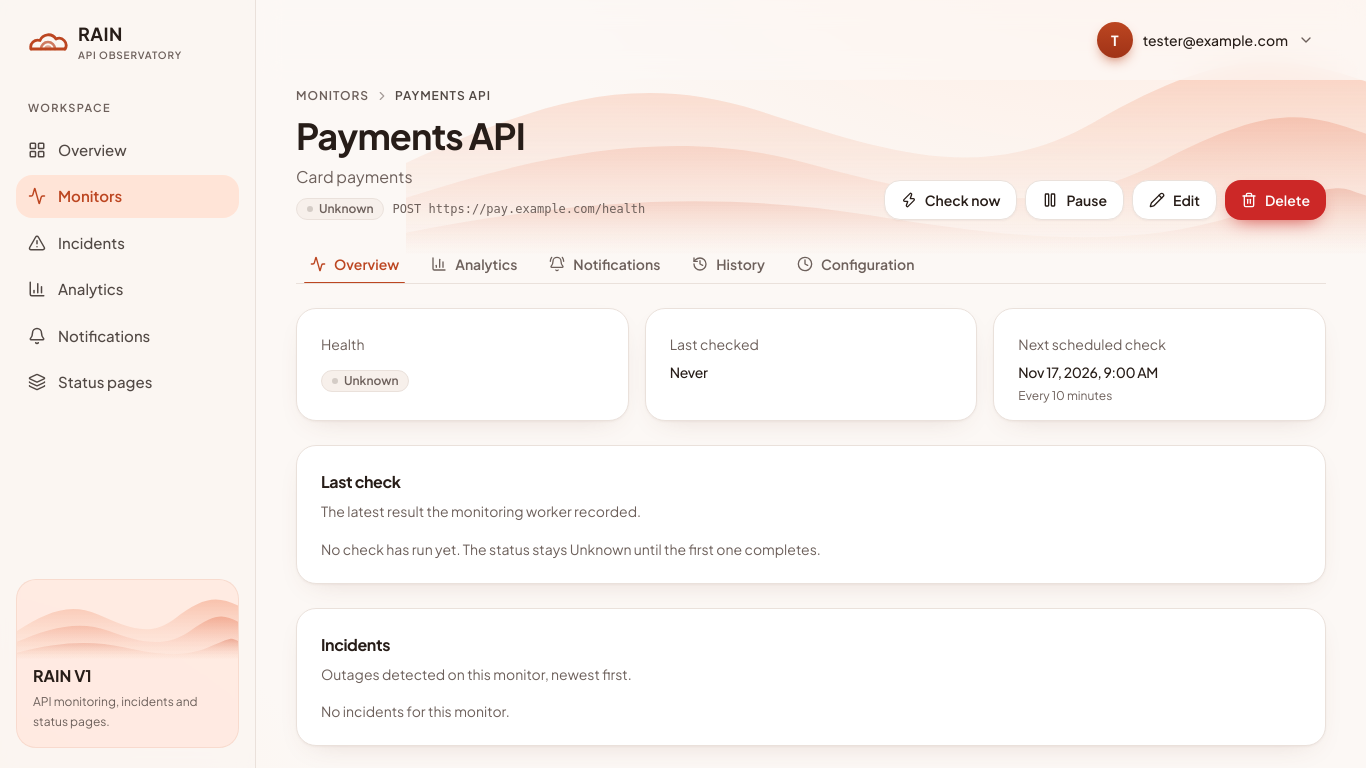
Scenario: monitor details › shows configuration and header names but no credential values or invented history
Expected: the heading "Payments API" is shown, [296,113,525,158]
Expected: the text "Card payments" is shown, [296,166,413,187]
Click the tab "Configuration" at x=856, y=264, box [783,244,928,284]
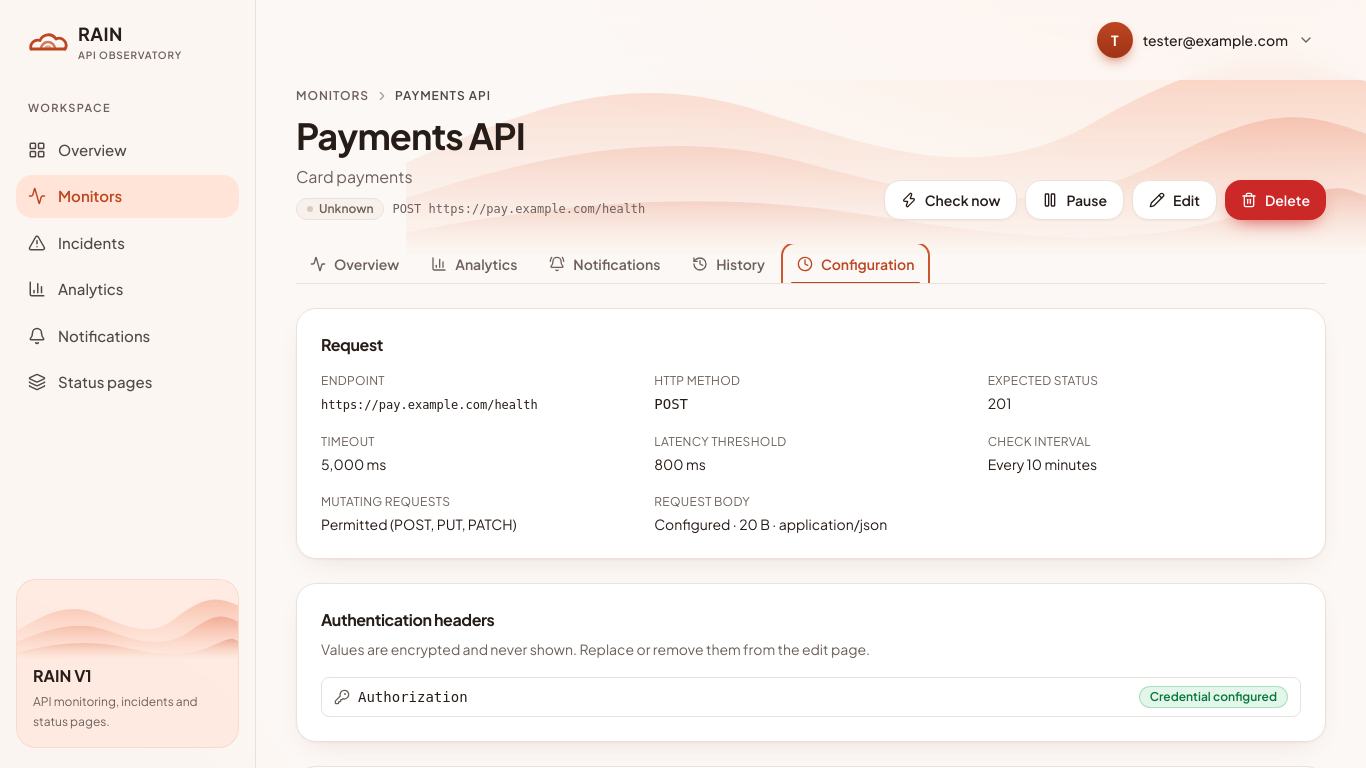
Expected: the text "201" is shown, [988,394,1012,412]
Expected: the text "5,000 ms" is shown, [321,455,386,473]
Expected: the text "800 ms" is shown, [654,455,706,473]
